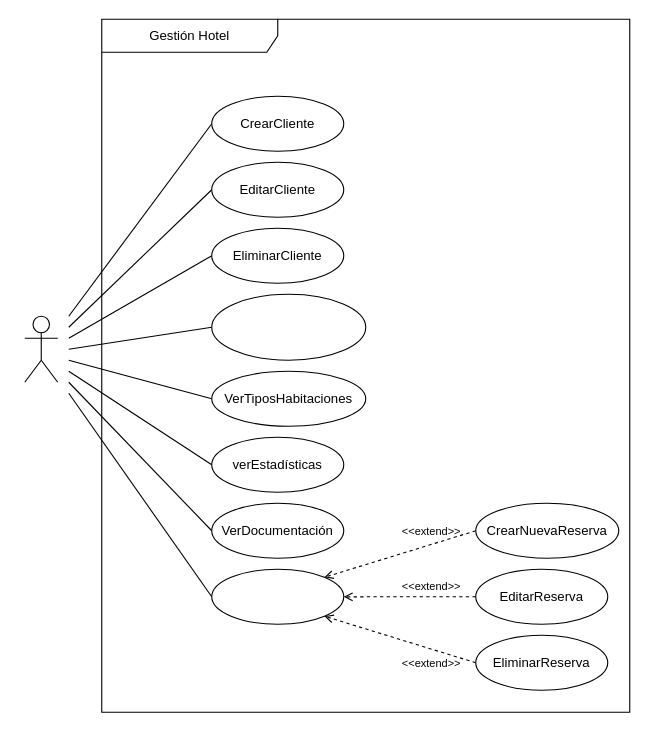
This 649x732 diagram has some shape labels left out. Each missing label, with the centre of its shape:
BuscarCliente: [288,326]
Usuario: [41,348]
VerReservas: [277,596]
